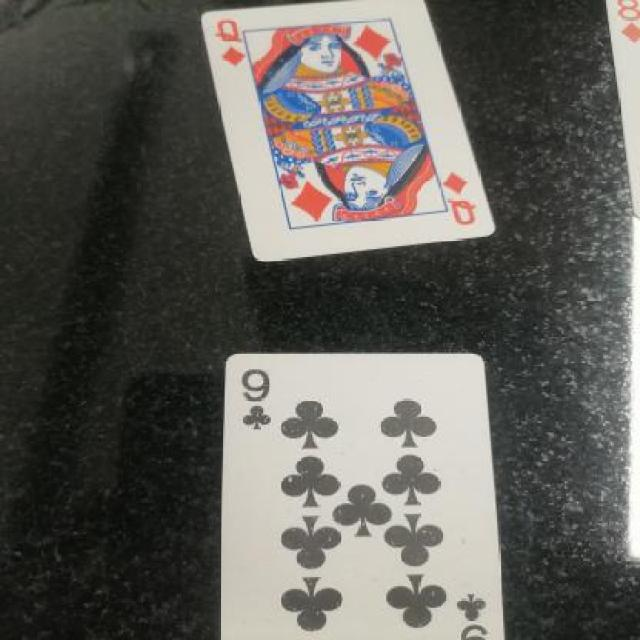9C: (227, 365, 282, 433)
QD: (216, 15, 259, 80)
